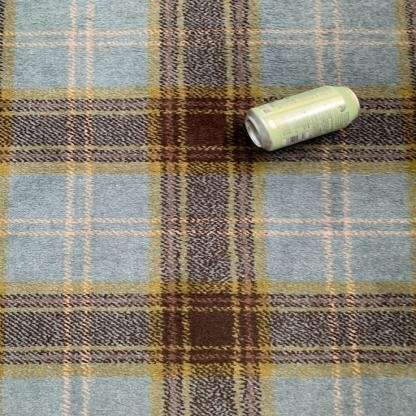trash: (245, 86, 359, 150)
